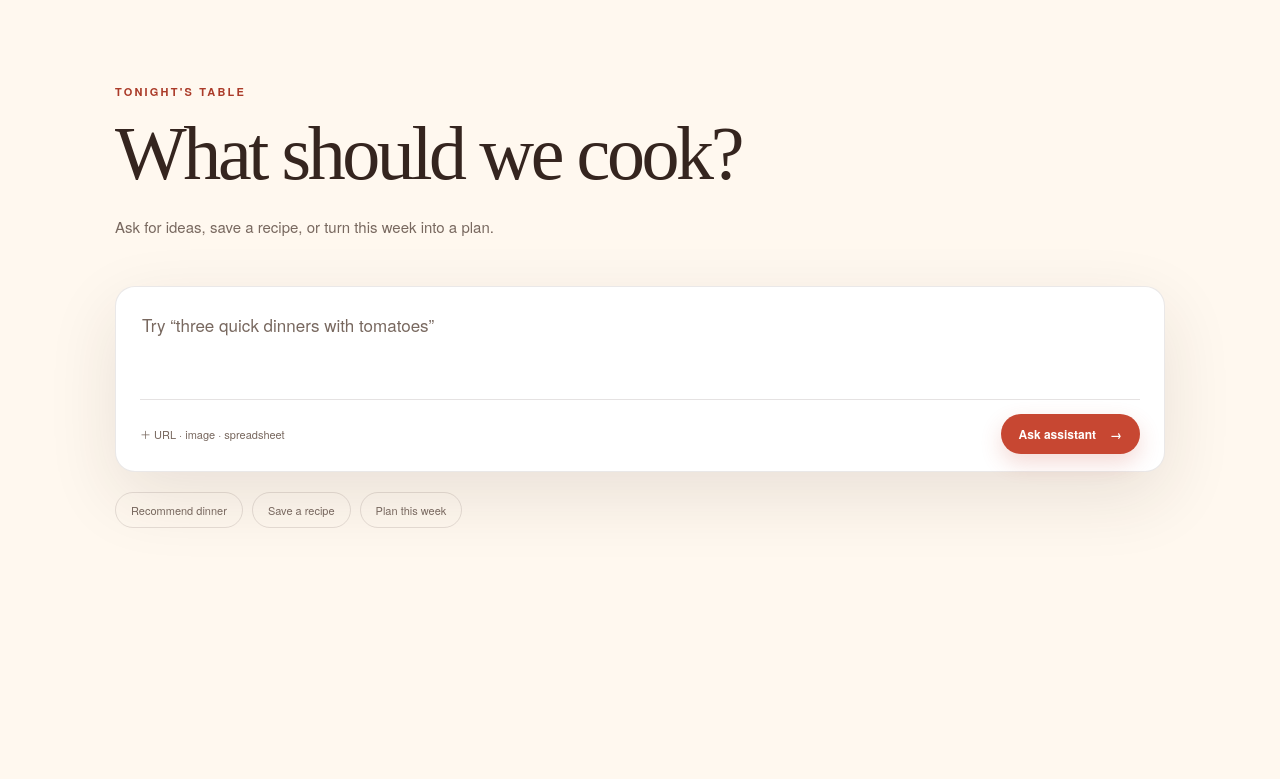
real assistant chat › submits once, polls, and renders one structured final response
Type "Recommend dinner" into the text box at (640, 352), box [140, 309, 1140, 394]
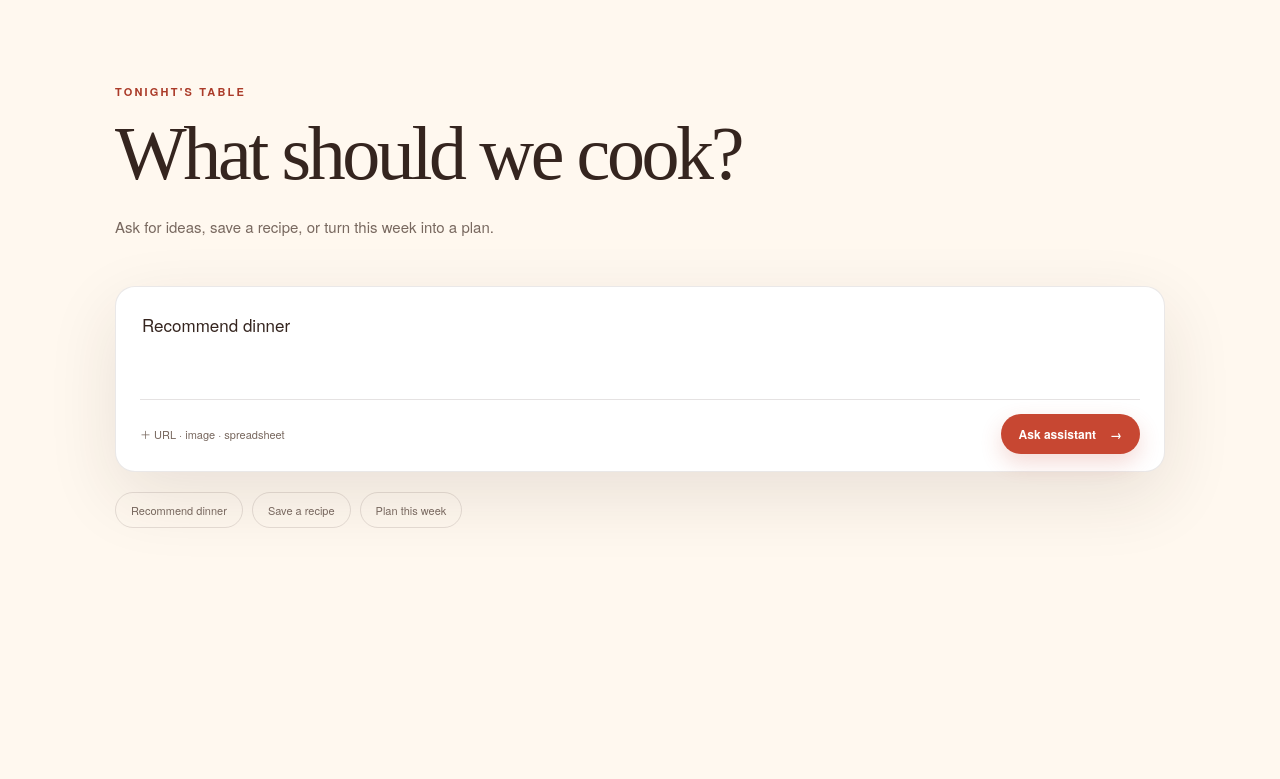
Click the button "Ask assistant →" at (1070, 434), box [1000, 414, 1140, 454]
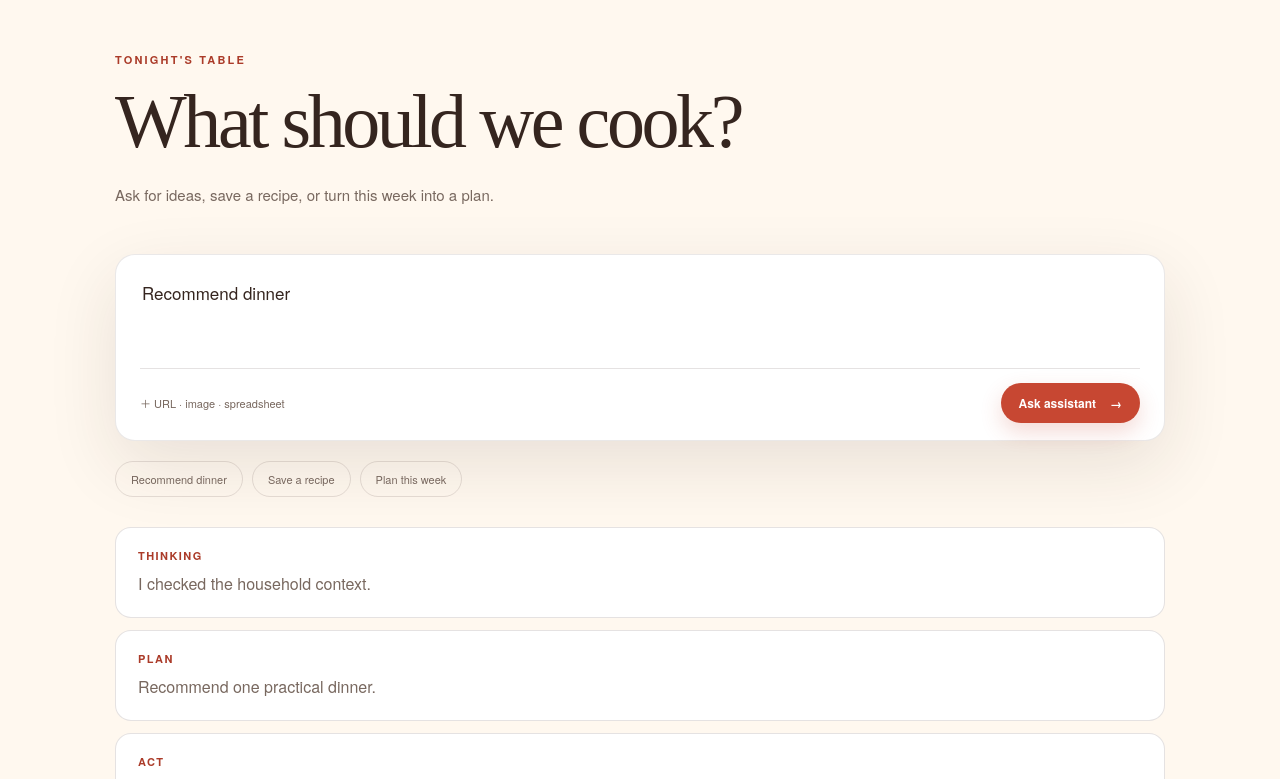
Result: the heading "Thinking" is shown at [138, 548, 203, 562]
Result: the heading "Plan" is shown at [138, 651, 174, 666]
Result: the heading "Act" is shown at [138, 754, 164, 769]
